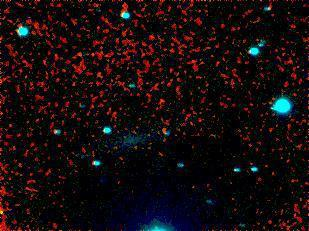star: (0, 191, 16, 221)
